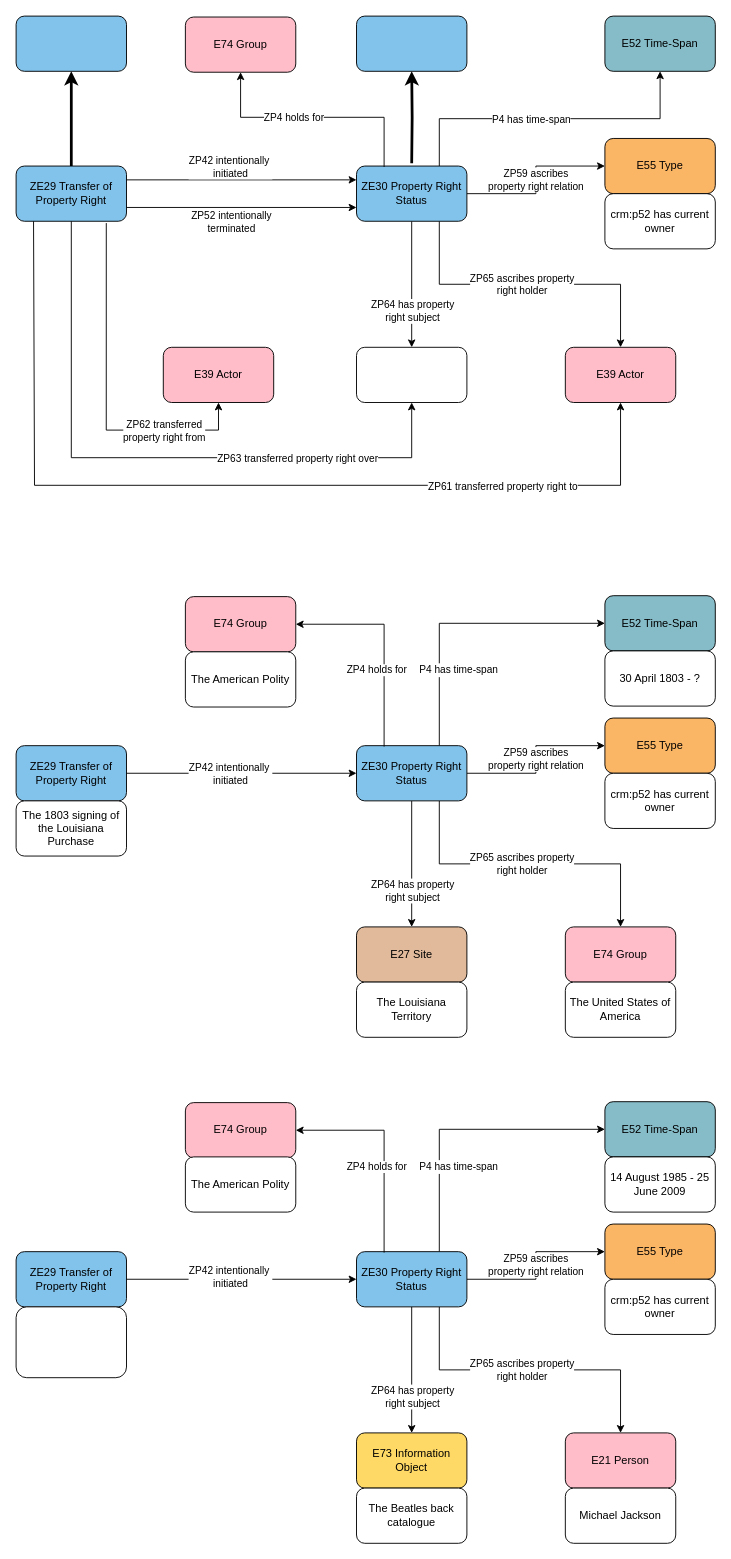
The diagram is 731 pixels wide and 1559 high, and some of its shapes have lost their labels. The centre of each missing label's shape, as x and y in pixels:
"E72 Legal Object" belongs at point 411,374.
"The signing of contract finalizing the purchase of the Beatles back catalogue" belongs at point 70,1342.
"ZE1 Institutional Fact" belongs at point 411,43.
"ZE13 Speech Act" belongs at point 70,43.
